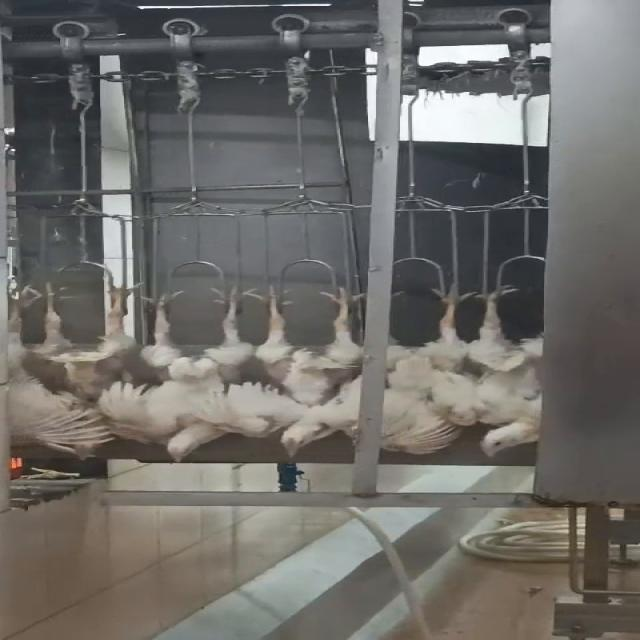chicken: (119, 276, 259, 464), (254, 280, 368, 454), (379, 278, 480, 460), (36, 275, 160, 420), (455, 274, 549, 460)
